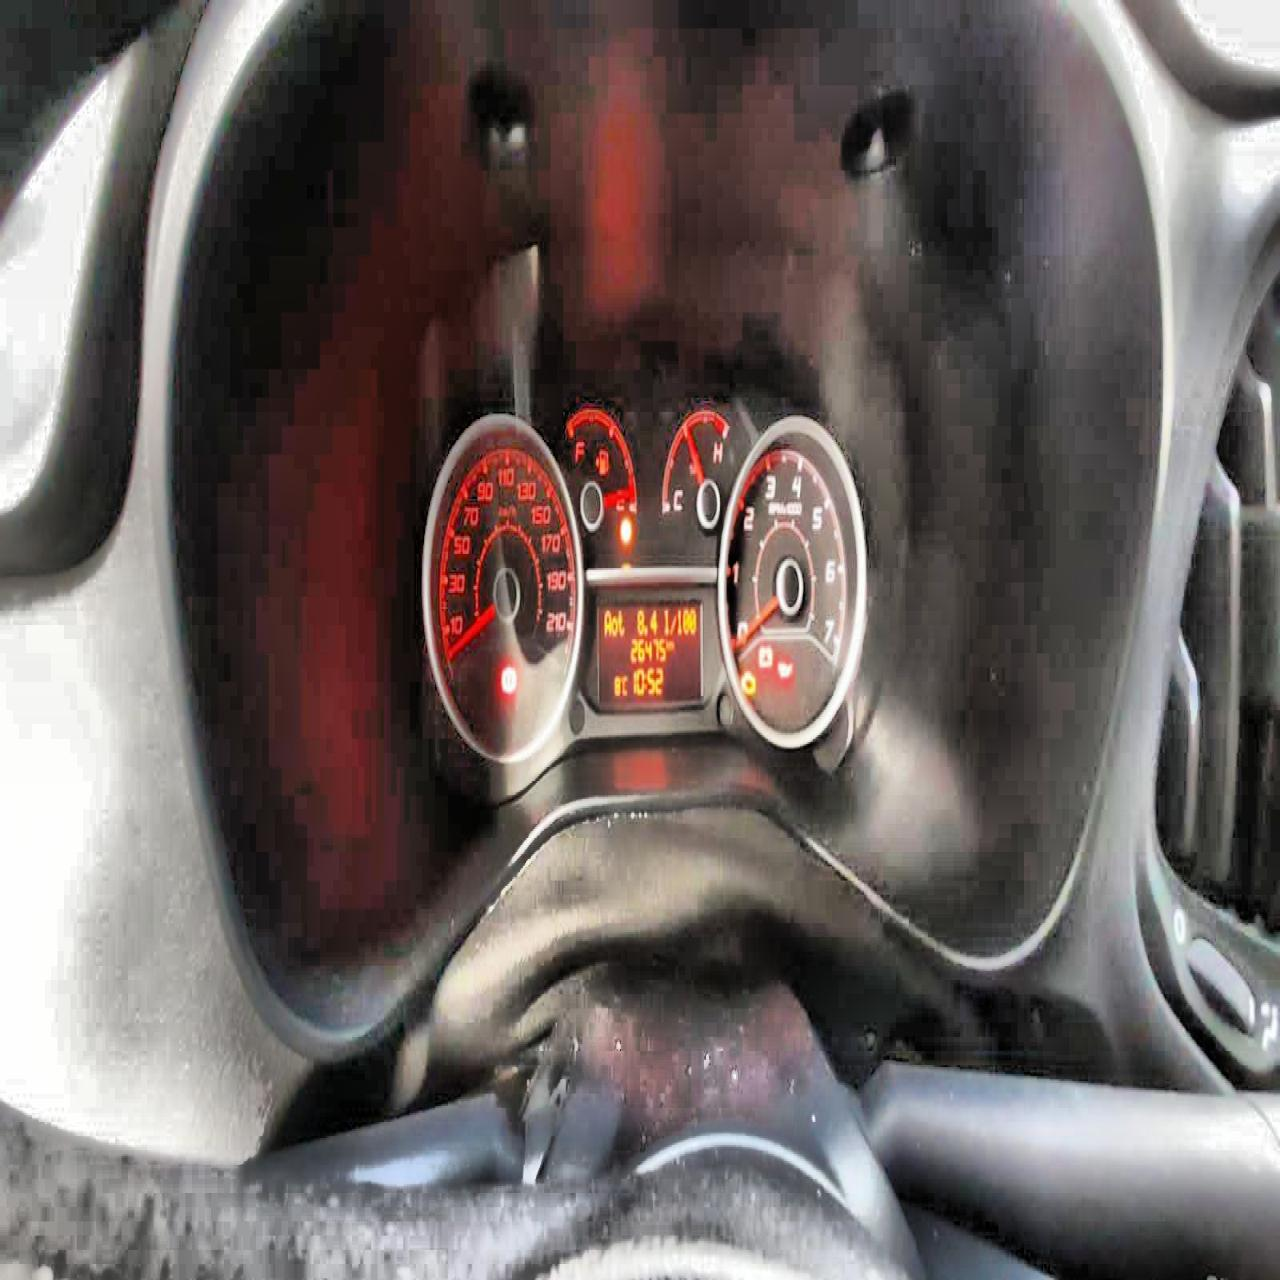-: (644, 624, 647, 635)
0: (636, 667, 644, 696), (689, 607, 696, 634), (681, 607, 688, 634)
1: (676, 607, 681, 635), (632, 669, 636, 694)
2: (654, 666, 663, 694), (629, 638, 636, 662)
4: (648, 607, 658, 634), (644, 638, 651, 660)
5: (647, 666, 654, 694), (659, 638, 665, 660)
6: (636, 638, 644, 660)
7: (652, 638, 659, 659)
8: (635, 607, 644, 634), (614, 673, 620, 696)
X: (602, 607, 611, 636), (617, 607, 625, 636), (662, 607, 669, 635), (669, 612, 676, 634), (611, 614, 618, 635), (621, 673, 627, 696), (669, 638, 674, 652), (644, 670, 646, 689), (666, 635, 668, 652)
odometer: (597, 598, 706, 707)
